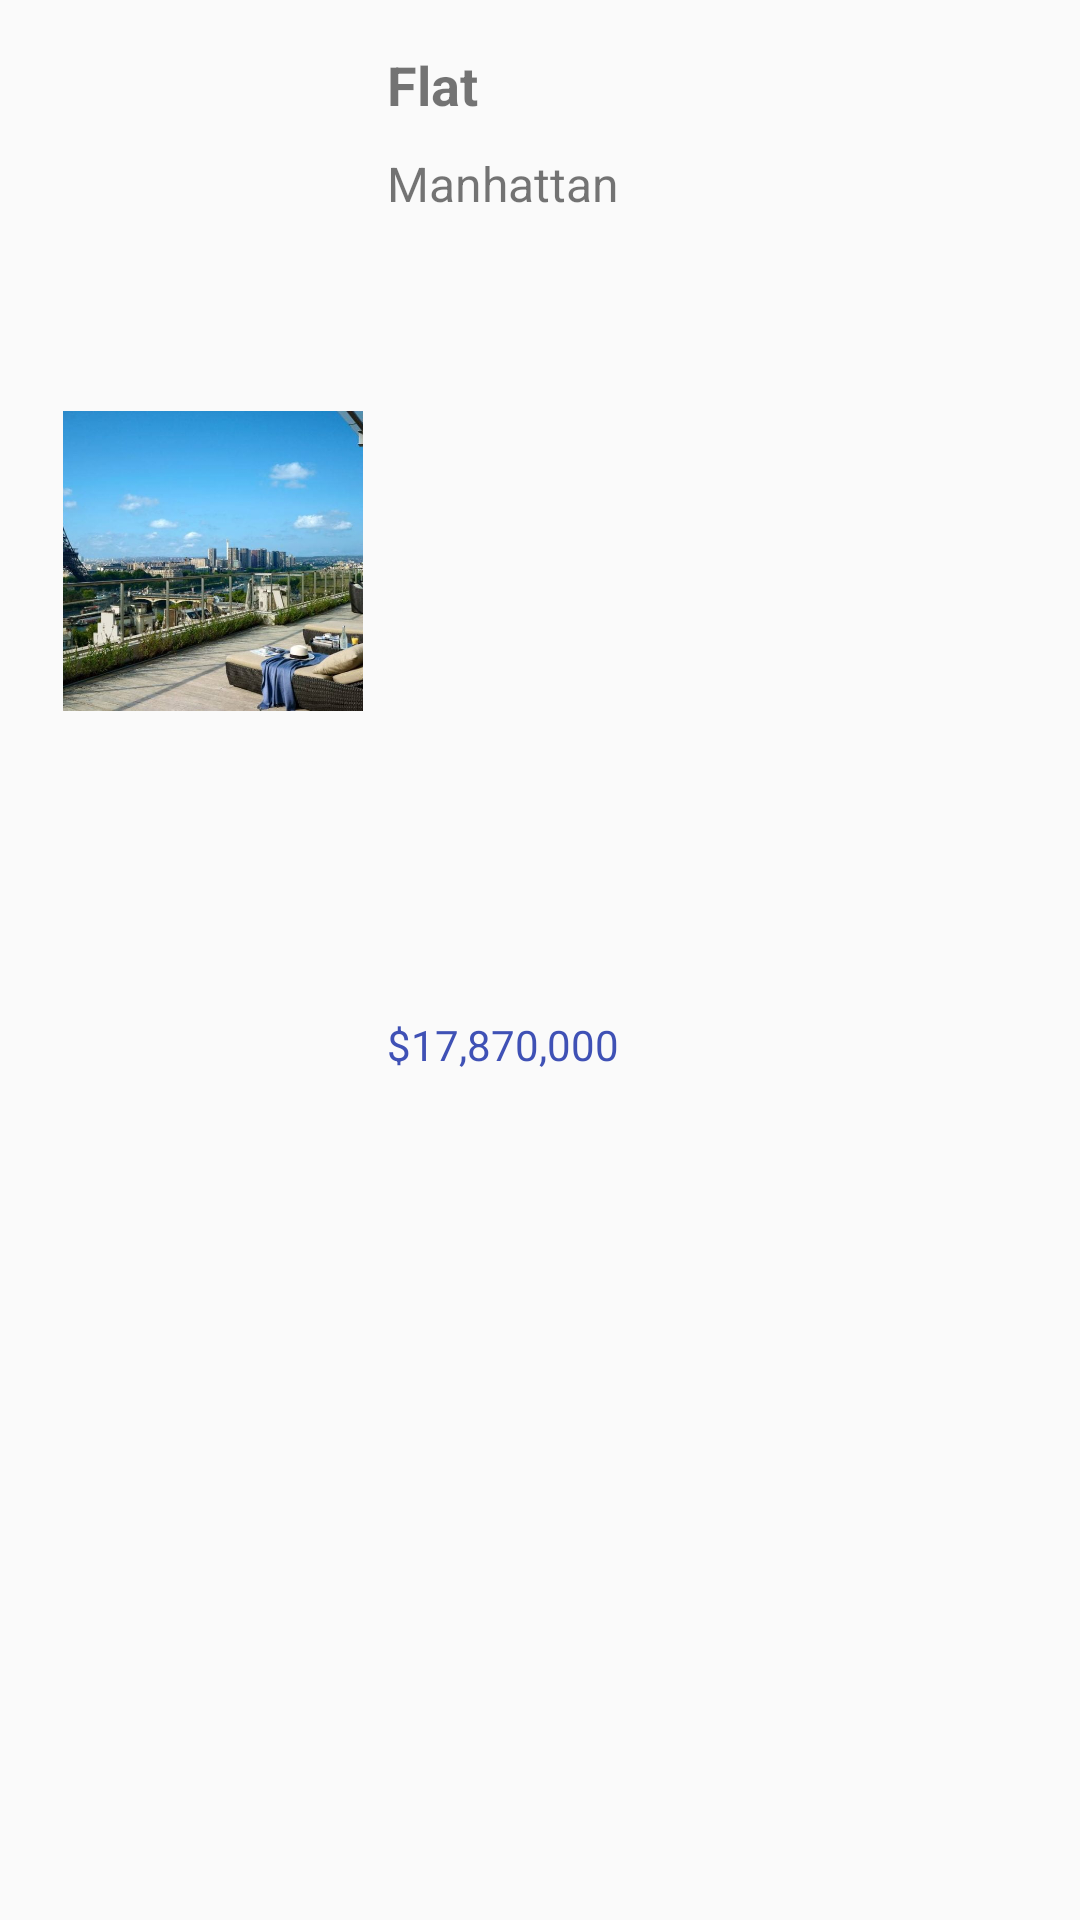

Where to tap for icons on this 1080w x 1920h app screen, as (x=x, y=y):
picture intro: (x=213, y=561)
